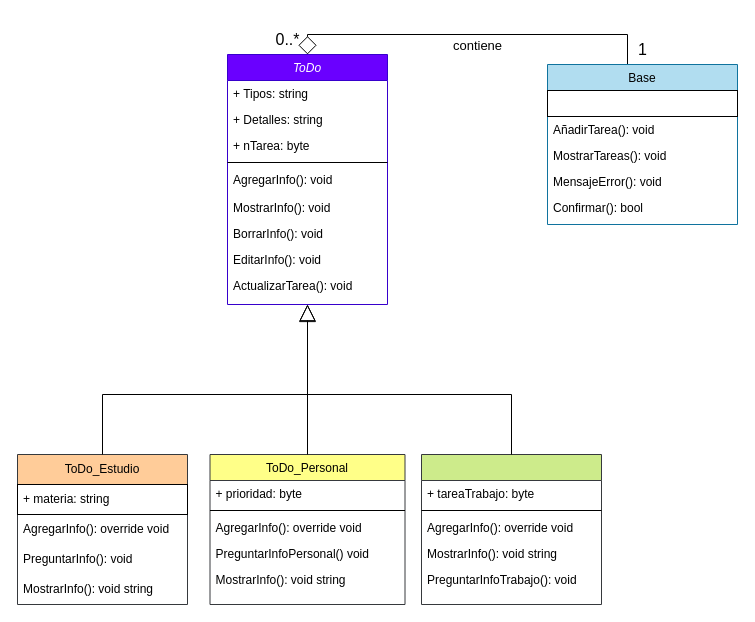
Image size: 755x622. Some labels were removed from this diagram. Here are the shapes that lost their labels. From the top down, the box of each, then its label:
(546, 90, 738, 116): static string[] Tareas = new string
(420, 454, 602, 604): ToDo_Trabajo
